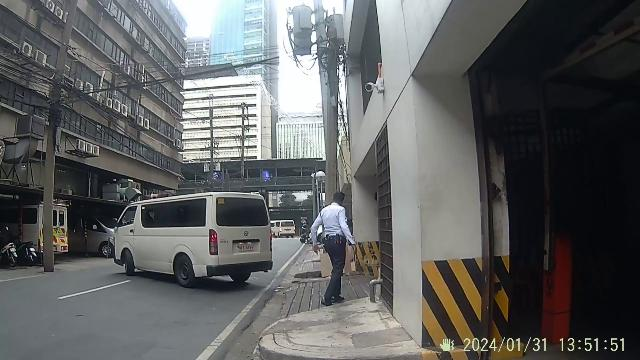car: (106, 185, 282, 293)
utility_post: (281, 5, 369, 306), (14, 0, 92, 294)
